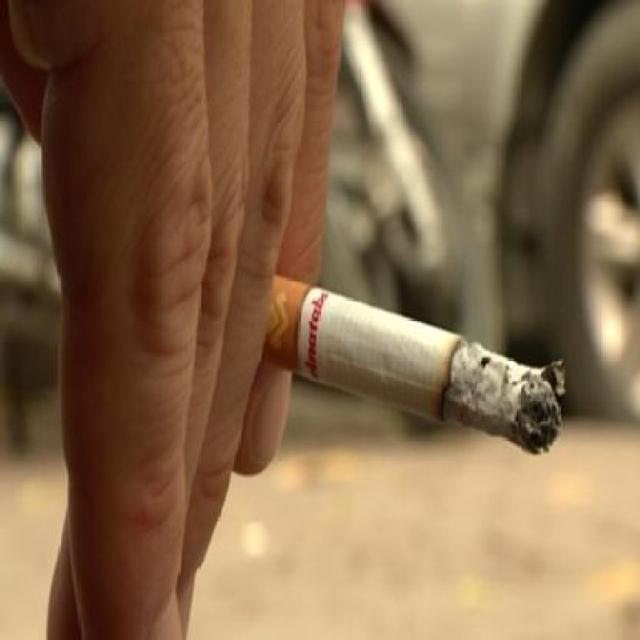trash: (256, 275, 566, 453)
